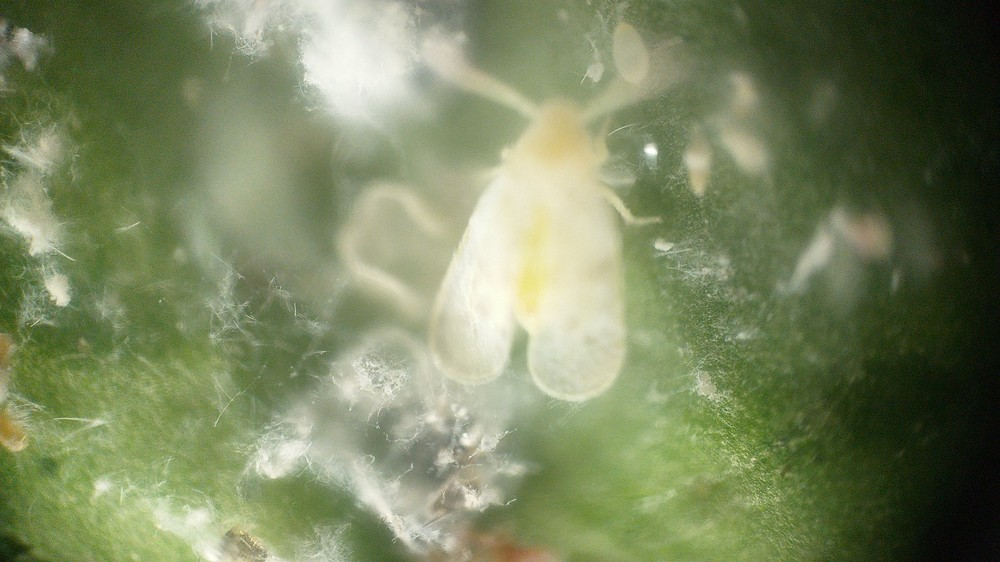Mosca Blanca: (399, 37, 716, 418)
